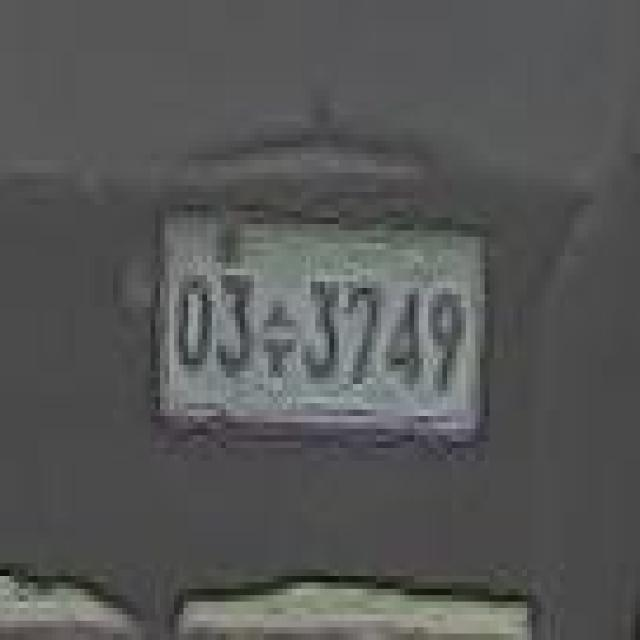illegal_plate: (148, 200, 492, 460)
